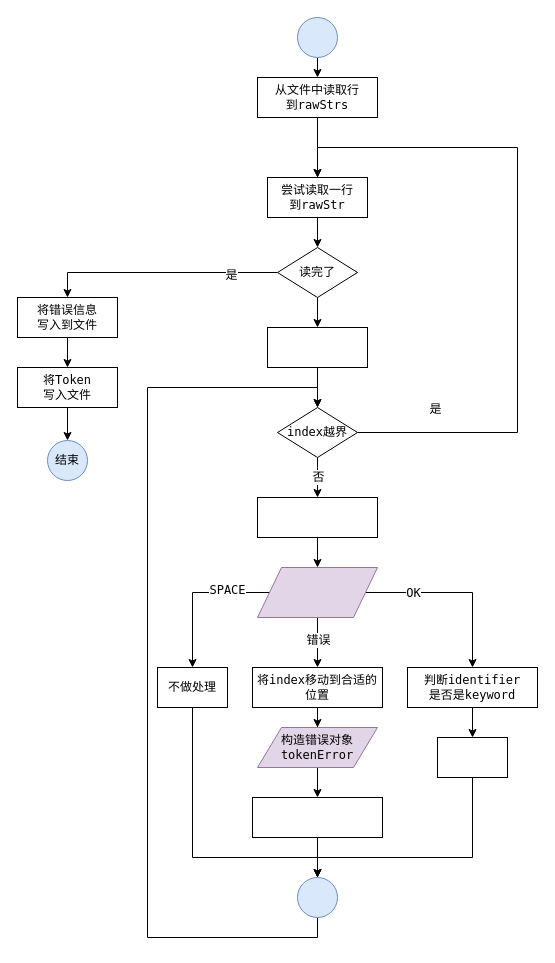
Some shapes in this 555 by 963 pixel diagram are drawn without their labels. The shapes that lost their labels are listed below. From the top down, each one's centre as x and y in pixels, then its label:
At [317,37]: "开始".
At [317,347]: "设置 index = 0".
At [317,517]: "使用DFA的 parse方法处理".
At [317,592]: "处理结果".
At [472,757]: "将token 加入数组".
At [317,817]: "将tokenError 加入数组".
